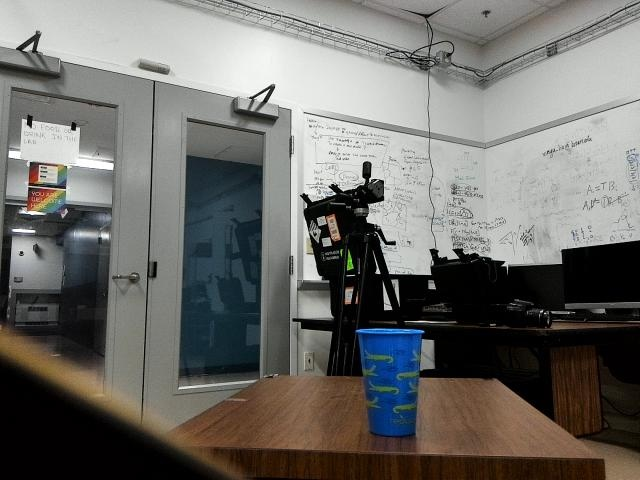water_cup: (346, 325, 433, 440)
